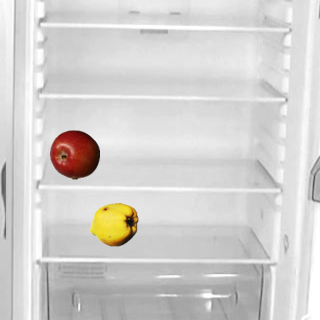Apple Braeburn: (49, 129, 99, 179)
Quince: (88, 199, 138, 249)
